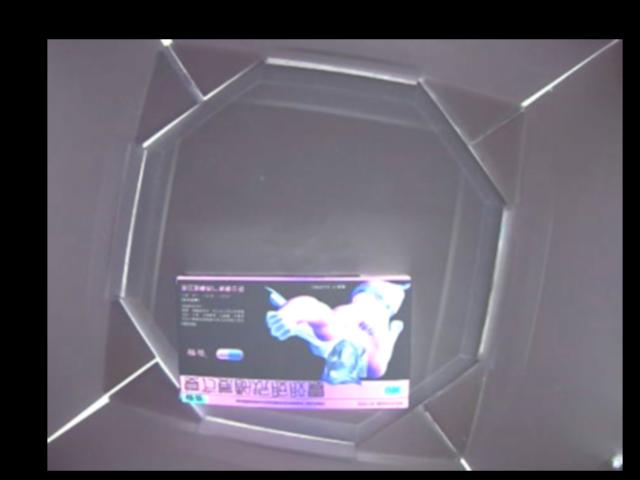Medicine: (178, 273, 412, 407)
